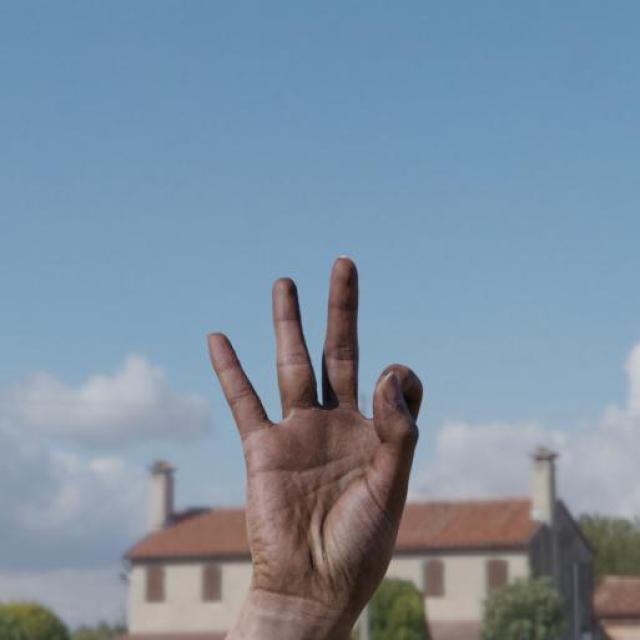F: (202, 252, 432, 612)
